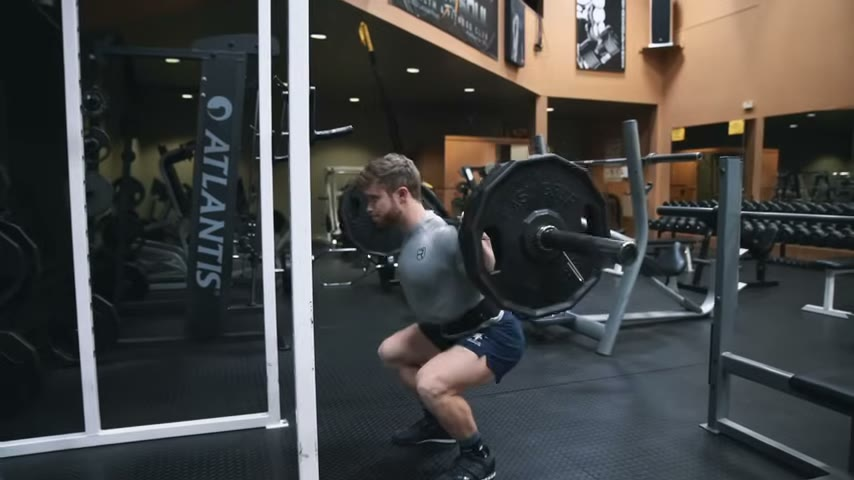barbell_plate_side: (549, 154, 624, 383)
